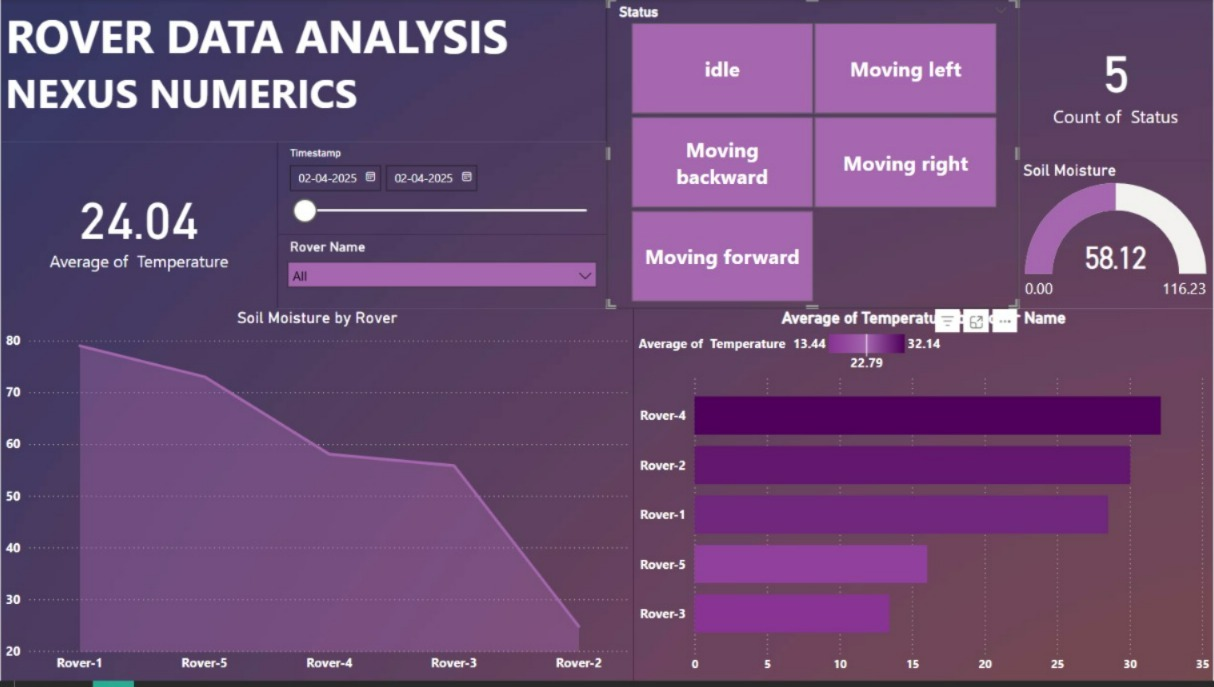

The dashboard page shown, as its layout file describes it:
{"tool":"powerbi","page":{"name":"Page 1","canvas":[1280,720],"ordinal":0},"visuals":[{"type":"textbox","box":[0,0,639.5,150.9],"z":0},{"type":"card","fields":{"Values":["CountNonNull(rover_data. Status)"]},"box":[1074.4,0,205.8,170.2],"z":1},{"type":"areaChart","title":"Soil Moisture by Rover","fields":{"Category":["rover_data.Rover Name"],"Y":["Avg(rover_data. Soil Moisture)"]},"box":[0,326.6,668.3,393.8],"z":2},{"type":"clusteredBarChart","fields":{"Category":["rover_data.Rover Name"],"Y":["Avg(rover_data. Temperature)"]},"box":[668.3,326.6,612,393.8],"z":3},{"type":"card","fields":{"Values":["Avg(rover_data. Temperature)"]},"box":[0,150.9,292.3,175.6],"z":4},{"type":"slicer","fields":{"Values":["rover_data. Status"]},"box":[639.5,0,435,326.6],"z":5},{"type":"slicer","fields":{"Values":["rover_data. Timestamp"]},"box":[292.3,150.9,347.2,97.4],"z":6},{"type":"gauge","title":"Soil Moisture","fields":{"Y":["Avg(rover_data. Soil Moisture)"]},"box":[1074.4,170.2,205.8,156.4],"z":7},{"type":"slicer","fields":{"Values":["rover_data.Rover Name"]},"box":[292.3,248.4,347.2,78.2],"z":8}]}

Visuals, with their boxes in screenshot pixels (x1, y1, x2, y2), scaled from the page's 1280x720 canvas onto the 1214x687 screenshot:
textbox: (0, 0, 607, 144)
card - CountNonNull(rover_data. Status): (1019, 0, 1213, 162)
"Soil Moisture by Rover" areaChart: (0, 312, 634, 686)
clusteredBarChart - rover_data.Rover Name x Avg(rover_data. Temperature): (634, 312, 1213, 686)
card - Avg(rover_data. Temperature): (0, 144, 277, 312)
slicer - rover_data. Status: (607, 0, 1019, 312)
slicer - rover_data. Timestamp: (277, 144, 607, 237)
"Soil Moisture" gauge: (1019, 162, 1213, 312)
slicer - rover_data.Rover Name: (277, 237, 607, 312)
